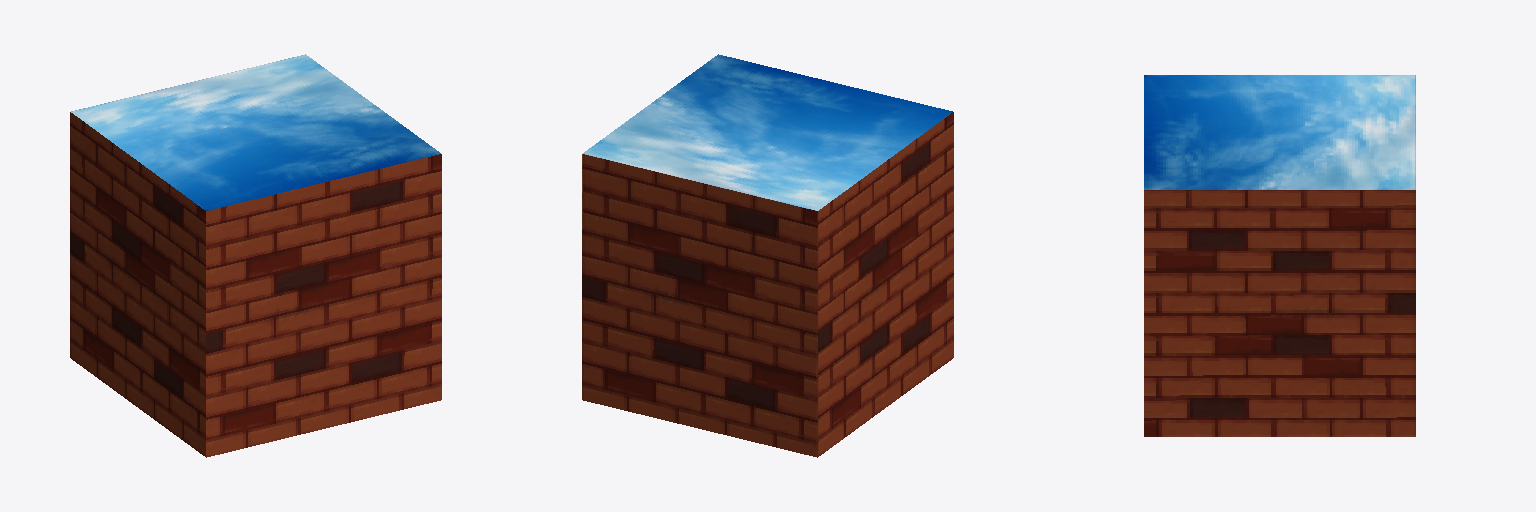
3 views of the same model, side by side, from view 1: azimuth 30°, elevation 25°; view 2: azimuth 150°, elevation 25°; view 3: azimuth 270°, elevation 25° (orthographic).
Parts seen in each view (by area): view 1: Cube; view 2: Cube; view 3: Cube.
Boxes of the visible parts, <box> form: Cube: <box>70,54,441,457</box>; Cube: <box>582,54,953,457</box>; Cube: <box>1144,75,1415,436</box>.
Size of the model in its own units: 2 by 2 by 2.
1 materials, 1 textured.